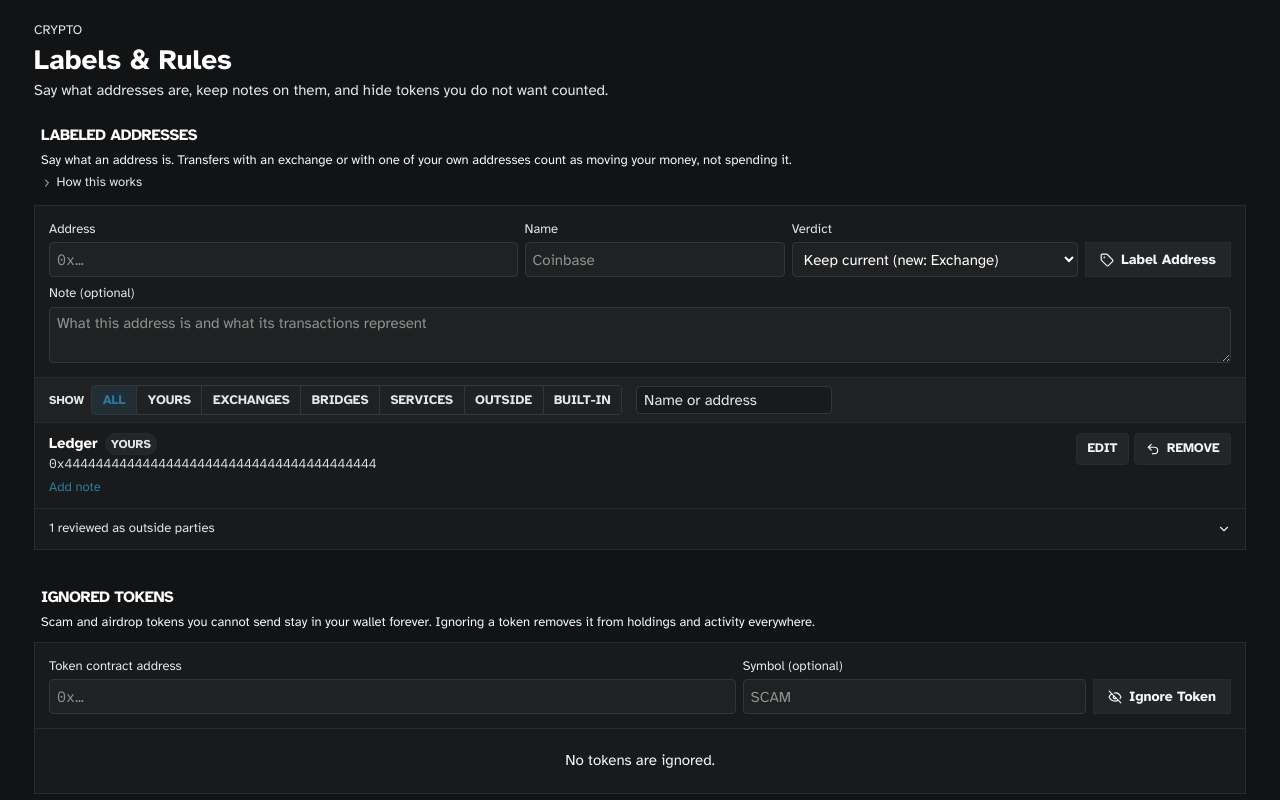
Test case: Crypto -> Labels tab › keeps own labels in the main list and collapses outside parties
This screenshot has width=1280, height=800.
Expected: the heading "Labeled Addresses" is shown, x1=41 y1=125 x2=197 y2=145
Expected: the text "Yours" is shown, x1=104 y1=433 x2=157 y2=455
Click the button "1 reviewed as outside parties" at (134, 528), box x1=35 y1=508 x2=1245 y2=548
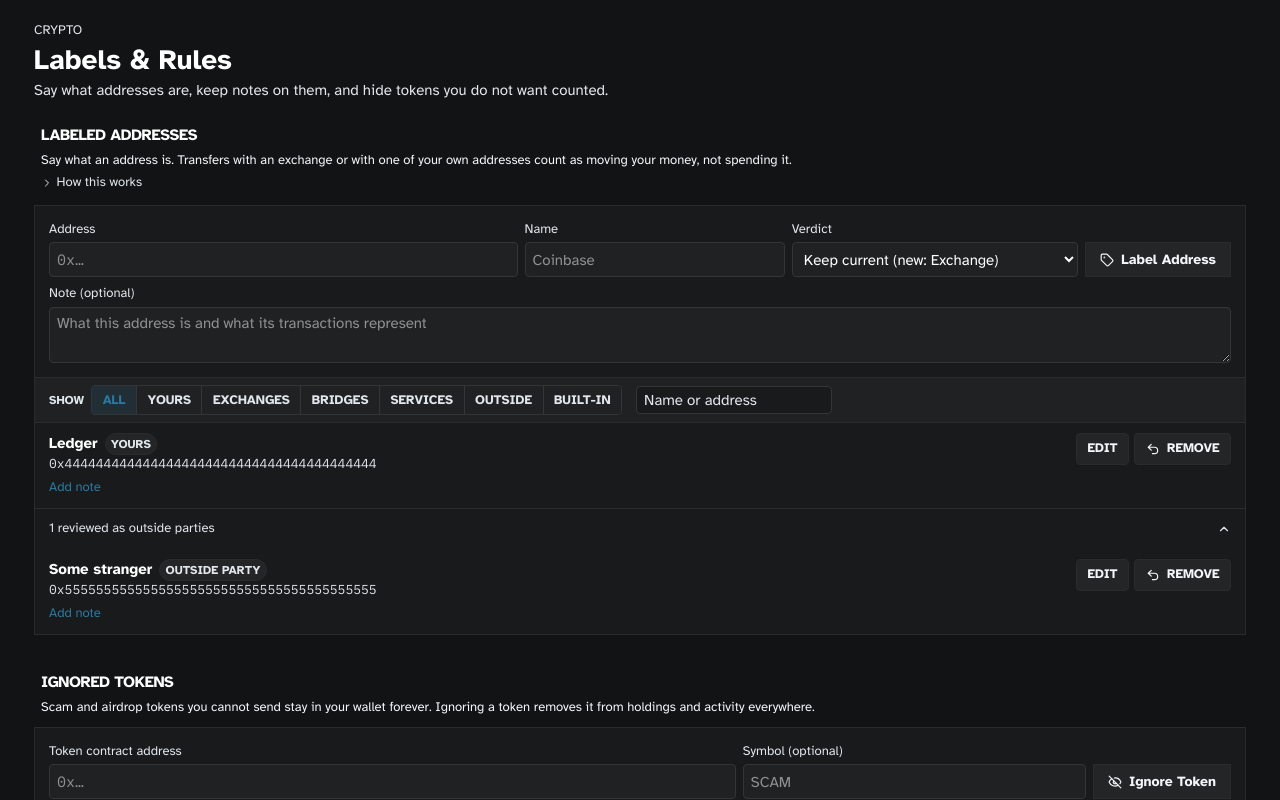
Now the text "Some stranger" is shown, box x1=49 y1=560 x2=152 y2=578
